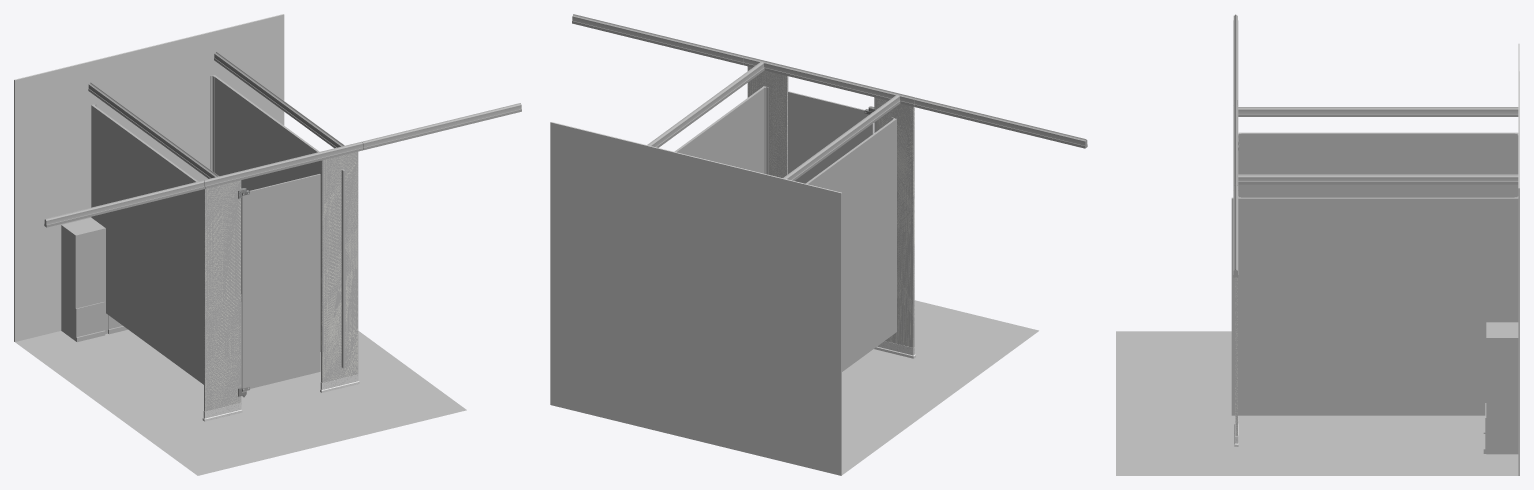
Rendered from BROctober2.glb.
The picture shows the model from 3 angles, left to right: view 1: azimuth 30°, elevation 25°; view 2: azimuth 150°, elevation 25°; view 3: azimuth 270°, elevation 25°; orthographic projection. The views are drawn at different scales.
Parts seen in each view (by area): view 1: group_8, group_10, group_6, group_7, group_2.001, group_3.001, group_5, group_25.001, group_25, instance_11, instance_9, instance_12 (+3 smaller); view 2: group_8, group_10, group_6, group_2.001, group_7, group_5, group_3.001, instance_11, instance_12, instance_9, instance_10, instance_8; view 3: group_5, group_10, group_6, group_25, instance_10, instance_8, group_8, instance_12, instance_11, instance_9, group_3.001.
Part boxes in pixels (x1=…): group_8: x1=14, y1=14, x2=284, y2=341; group_10: x1=15, y1=302, x2=466, y2=475; group_6: x1=91, y1=104, x2=203, y2=384; group_7: x1=241, y1=174, x2=320, y2=390; group_2.001: x1=204, y1=180, x2=241, y2=411; group_3.001: x1=321, y1=151, x2=358, y2=382; group_5: x1=213, y1=75, x2=345, y2=368; group_25.001: x1=75, y1=228, x2=107, y2=333; group_25: x1=61, y1=217, x2=105, y2=340; instance_11: x1=44, y1=180, x2=204, y2=227; instance_9: x1=204, y1=141, x2=363, y2=188; instance_12: x1=362, y1=103, x2=521, y2=149; group_8: x1=550, y1=122, x2=841, y2=475; group_10: x1=842, y1=300, x2=1038, y2=474; group_6: x1=805, y1=118, x2=896, y2=371; group_2.001: x1=874, y1=97, x2=914, y2=347; group_7: x1=788, y1=91, x2=873, y2=183; group_5: x1=674, y1=86, x2=765, y2=173; group_3.001: x1=747, y1=66, x2=788, y2=177; instance_11: x1=914, y1=97, x2=1087, y2=148; instance_12: x1=572, y1=14, x2=744, y2=64; instance_9: x1=743, y1=55, x2=915, y2=106; instance_10: x1=647, y1=61, x2=764, y2=147; instance_8: x1=783, y1=94, x2=900, y2=180; group_5: x1=1231, y1=197, x2=1518, y2=415; group_10: x1=1116, y1=331, x2=1518, y2=475; group_6: x1=1238, y1=132, x2=1518, y2=197; group_25: x1=1486, y1=322, x2=1518, y2=454; instance_10: x1=1238, y1=174, x2=1518, y2=184; instance_8: x1=1238, y1=107, x2=1518, y2=116; group_8: x1=1518, y1=43, x2=1519, y2=475; instance_12: x1=1233, y1=184, x2=1238, y2=277; instance_11: x1=1233, y1=14, x2=1238, y2=104; instance_9: x1=1233, y1=99, x2=1238, y2=189; group_3.001: x1=1235, y1=277, x2=1237, y2=435.
Bounding box in the file's own units: 8.61 × 4.53 × 5.77.
13 materials, 2 textured.
